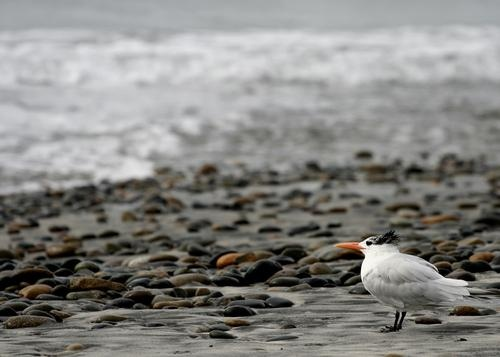bird: (323, 228, 470, 332)
